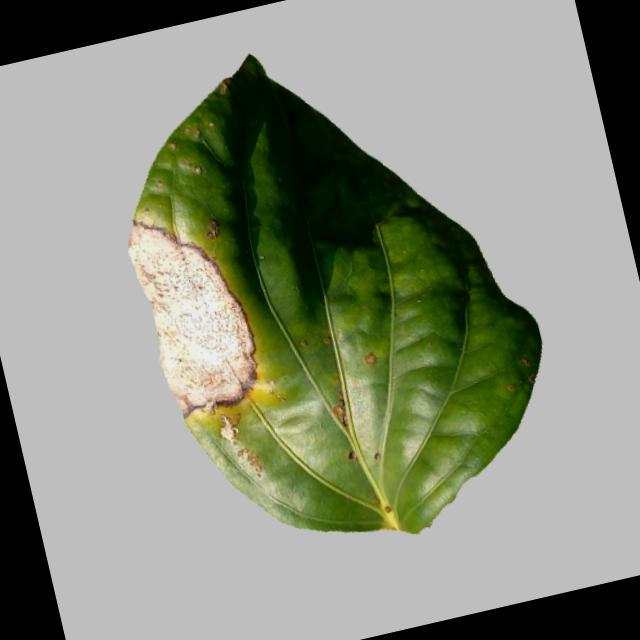leaf-blight: (63, 0, 595, 579)
